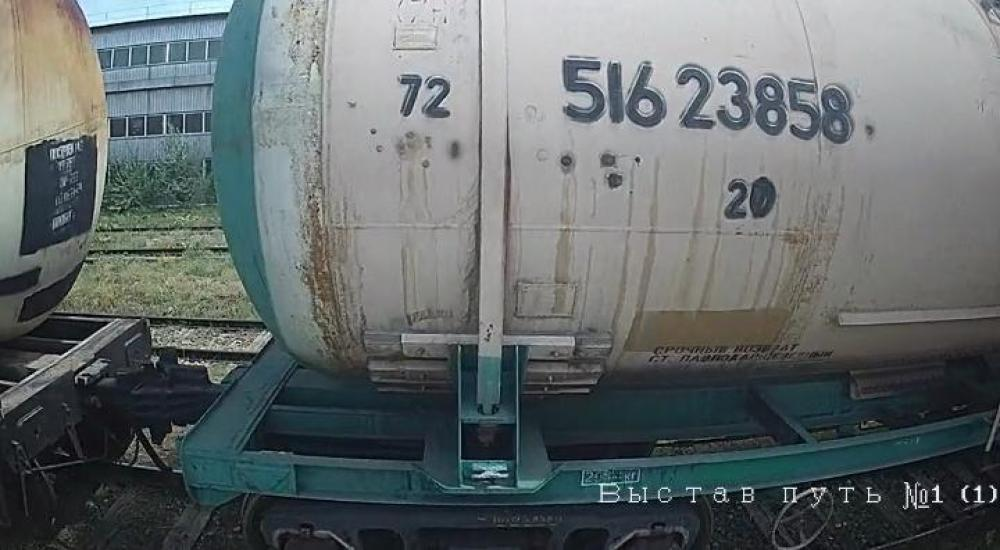Wagon-number: (556, 50, 858, 149)
